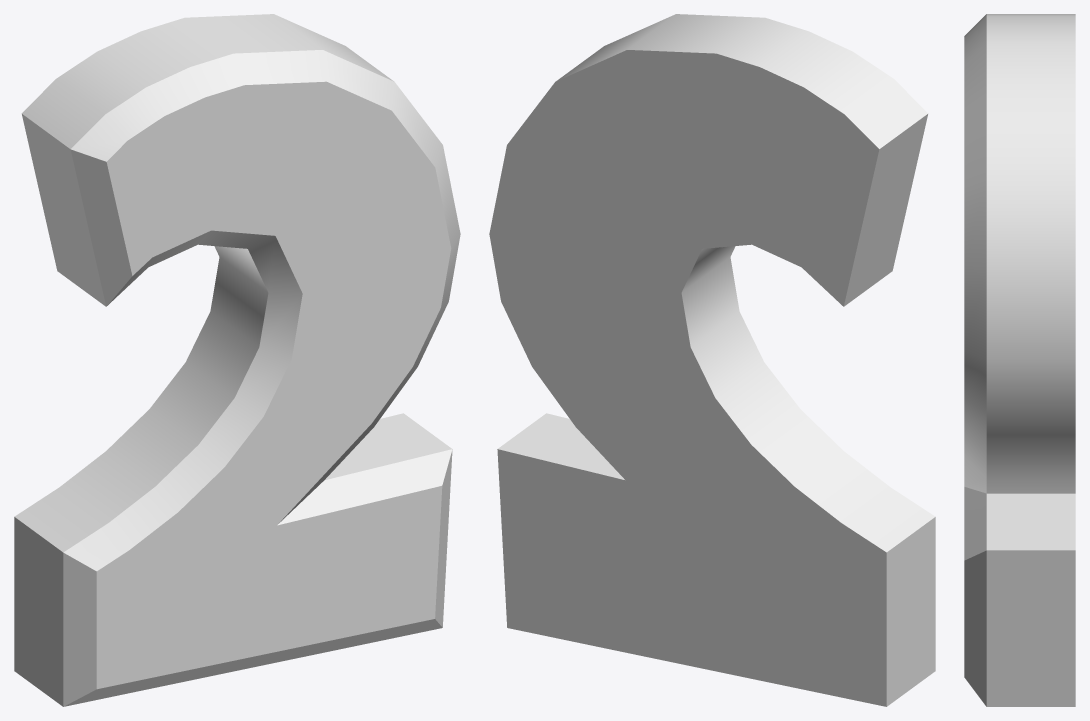
Rendered from LettersStylized01_2.FBX.
3 views of the same model, side by side, from view 1: azimuth 30°, elevation 25°; view 2: azimuth 150°, elevation 25°; view 3: azimuth 270°, elevation 25° (orthographic). The views are drawn at different scales.
Parts seen in each view (by area): view 1: LettersStylized01_2; view 2: LettersStylized01_2; view 3: LettersStylized01_2.
Boxes of the visible parts, x1=… form: LettersStylized01_2: x1=14, y1=14, x2=460, y2=706; LettersStylized01_2: x1=489, y1=14, x2=935, y2=706; LettersStylized01_2: x1=964, y1=14, x2=1075, y2=706.
Size of what is drawn, in the model's own units: 0.3111 by 0.468 by 0.083.
